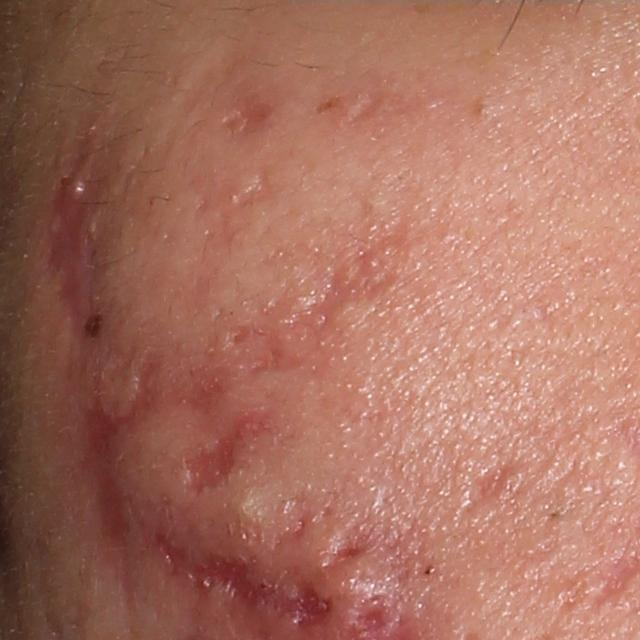atrophic_scar: (227, 215, 441, 382), (74, 353, 169, 610), (152, 528, 334, 624), (40, 132, 124, 335), (184, 407, 273, 498), (454, 459, 525, 526), (347, 79, 421, 126), (217, 91, 282, 139), (225, 164, 279, 208)
comedo: (473, 99, 497, 123)
hypertrophic_scar: (108, 395, 348, 585)
nevus: (75, 308, 108, 340)
